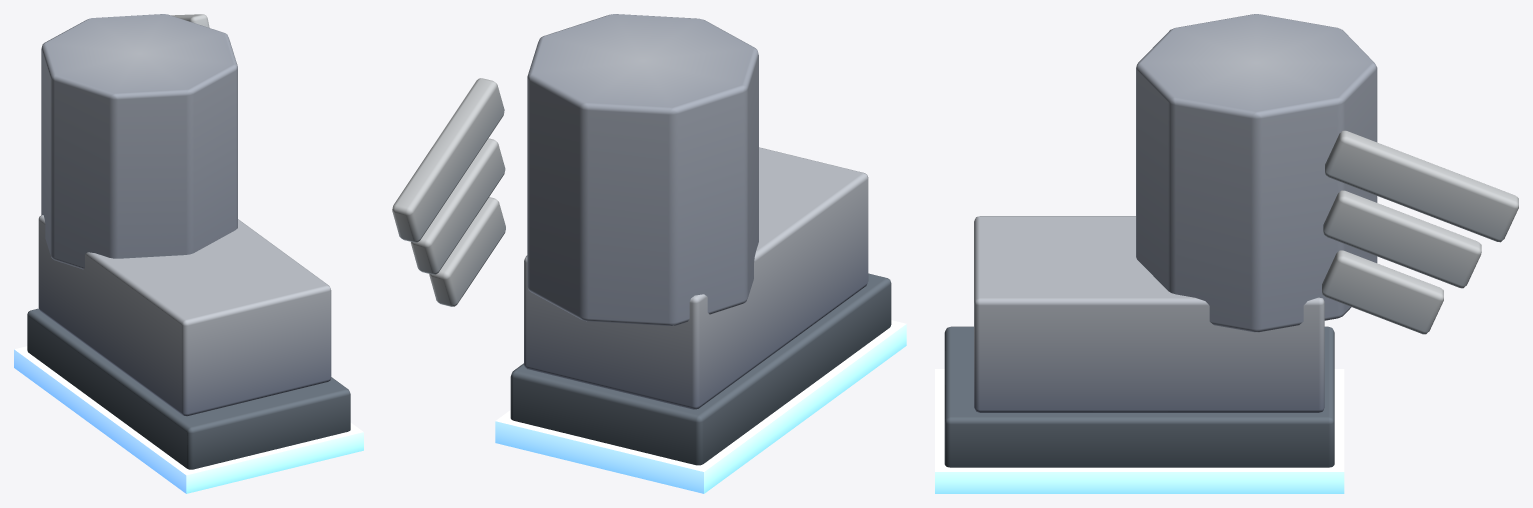
File: soul_treads.glb
3 renders of one model, left to right at view 1: azimuth 30°, elevation 25°; view 2: azimuth 150°, elevation 25°; view 3: azimuth 270°, elevation 25°, orthographic. The views are drawn at different scales.
Parts seen in each view (by area): view 1: soul_treads, soul_treads_glow; view 2: soul_treads, soul_treads_glow; view 3: soul_treads, soul_treads_glow.
Part boxes in pixels (left/top/right/bottom): soul_treads: left=27, top=14, right=350, bottom=469; soul_treads_glow: left=14, top=346, right=363, bottom=493; soul_treads: left=392, top=14, right=891, bottom=465; soul_treads_glow: left=495, top=320, right=906, bottom=493; soul_treads: left=944, top=14, right=1518, bottom=467; soul_treads_glow: left=935, top=369, right=1344, bottom=493.
Size of the model in its own units: 0.545 by 0.86 by 1.2.
